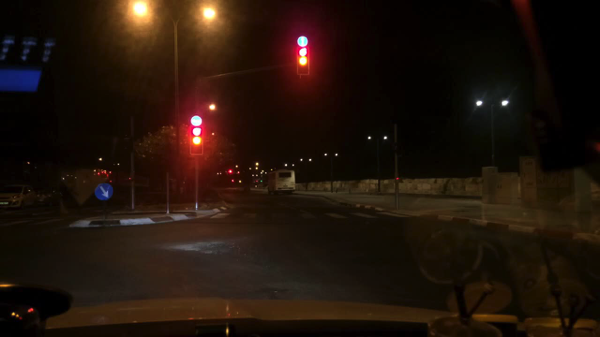bus: (265, 169, 295, 196)
car: (0, 184, 38, 212), (36, 186, 63, 209)
traffic light: (190, 127, 202, 155), (296, 48, 308, 74), (226, 169, 233, 176)
traffic sign: (95, 182, 115, 202), (296, 35, 308, 47), (189, 115, 202, 125)
